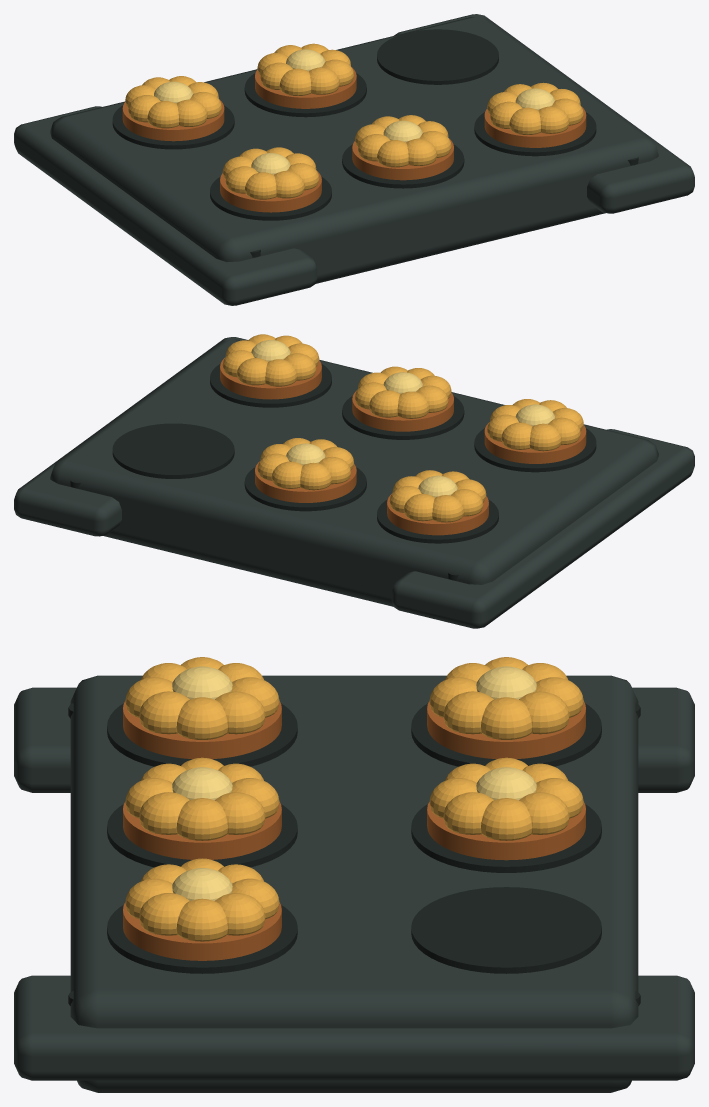
3 views of the same model, one above another, from view 1: azimuth 30°, elevation 25°; view 2: azimuth 150°, elevation 25°; view 3: azimuth 270°, elevation 25° (orthographic). The views are drawn at different scales.
Visible parts, largest first — view 1: Mould, Cakes, Wells; view 2: Mould, Cakes, Wells; view 3: Mould, Cakes, Wells.
Boxes of the visible parts, x1,y1,x2,y2 form: Mould: [14, 14, 694, 305]; Cakes: [122, 43, 586, 212]; Wells: [112, 29, 596, 220]; Mould: [14, 337, 694, 628]; Cakes: [220, 334, 586, 535]; Wells: [112, 363, 596, 543]; Mould: [14, 675, 694, 1092]; Cakes: [123, 657, 585, 960]; Wells: [107, 703, 601, 973].
Size of the model in its own units: 0.375 by 0.08 by 0.3.
